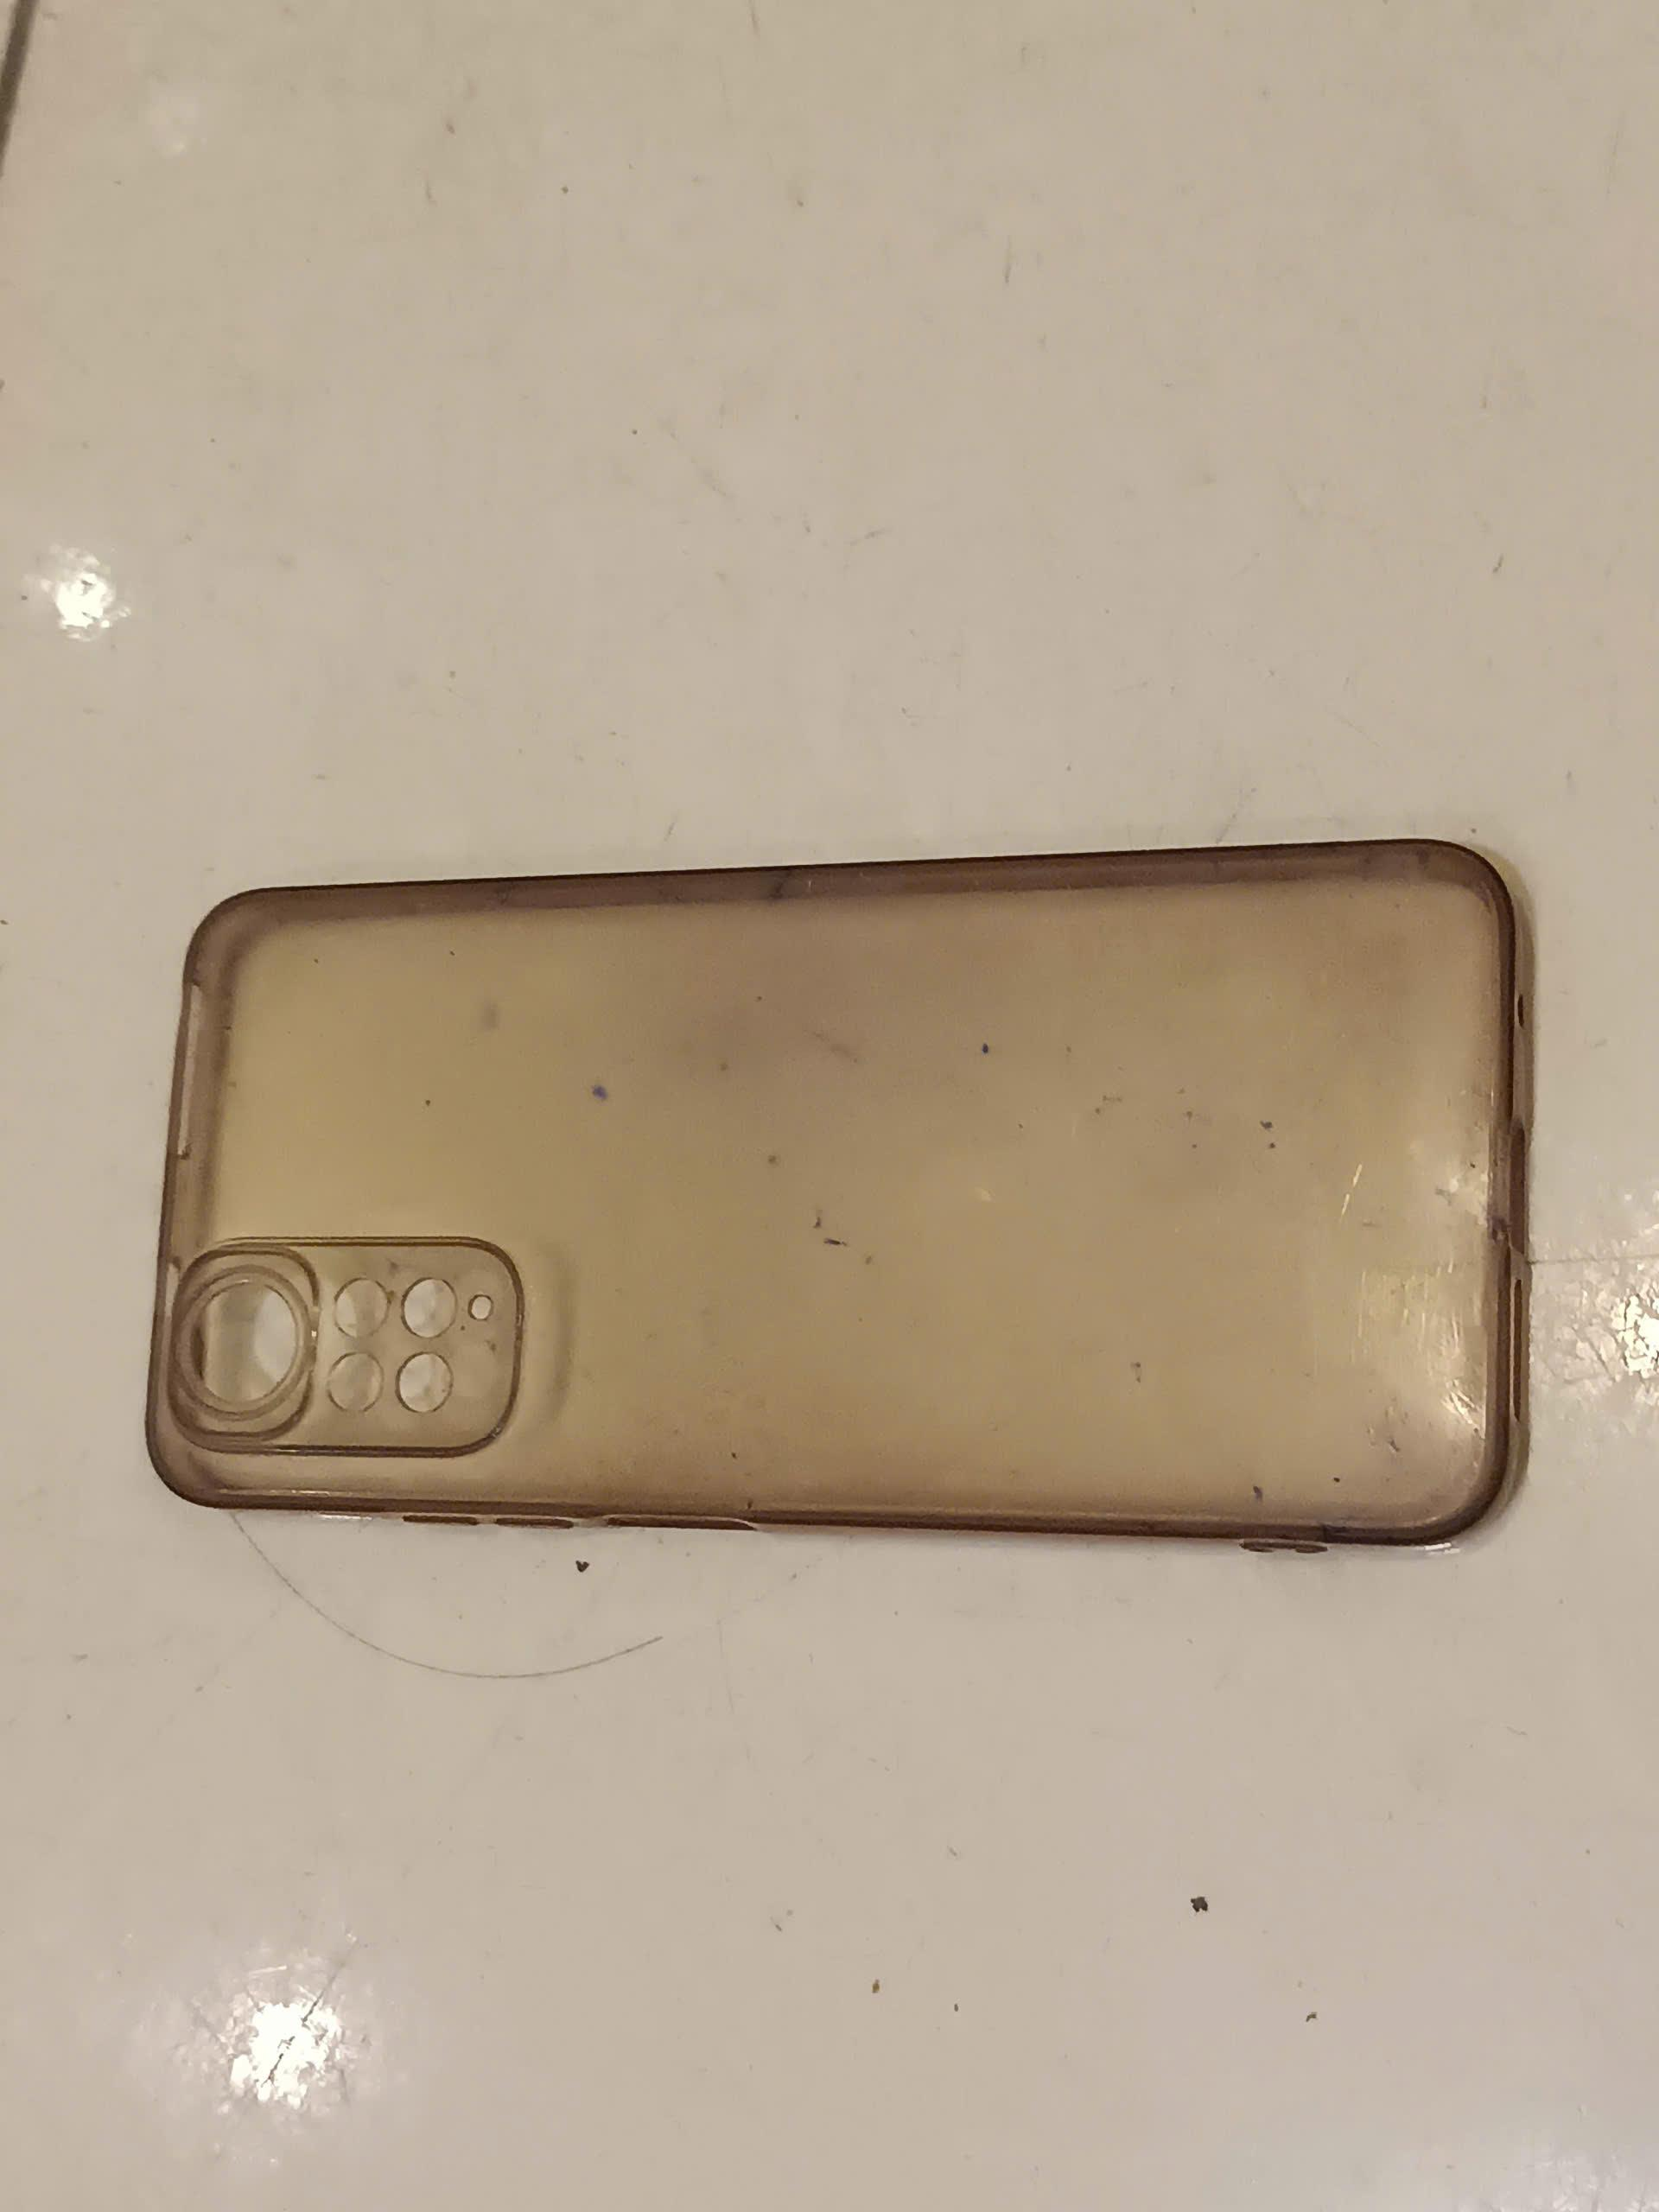Vo co: (138, 834, 1546, 1568)
